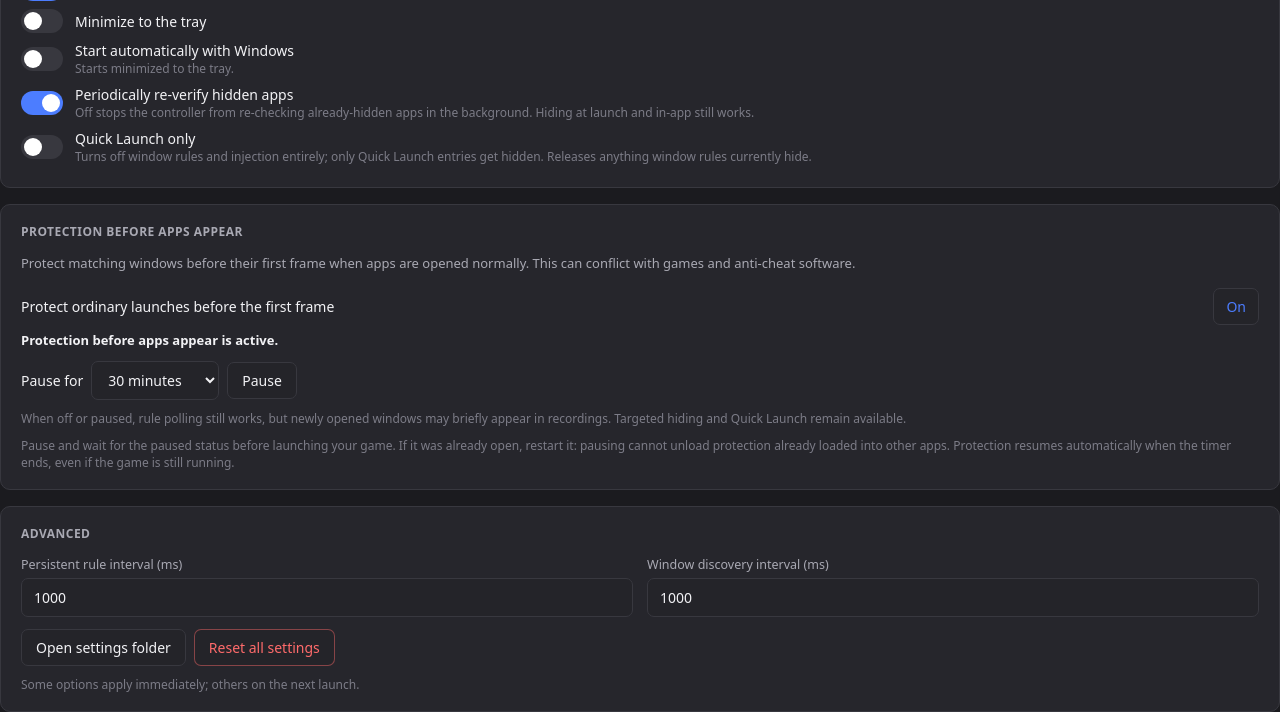
ordinary-launch protection controls › retains a newer tray change when a Settings save completes late
The image size is (1280, 712).
(page scrolled)
Step 1. Click the button "Pause" → (262, 380), box [227, 362, 297, 399]
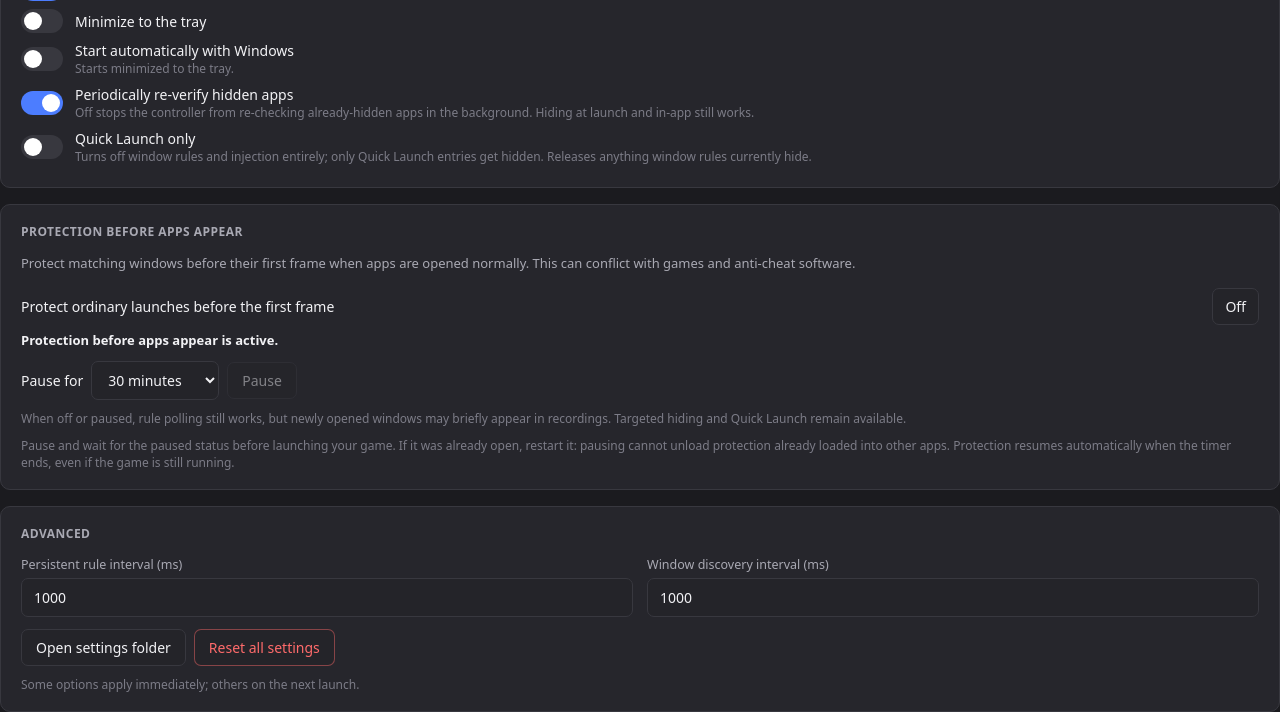
Now the button "Pause" is disabled, box [227, 362, 297, 399]
